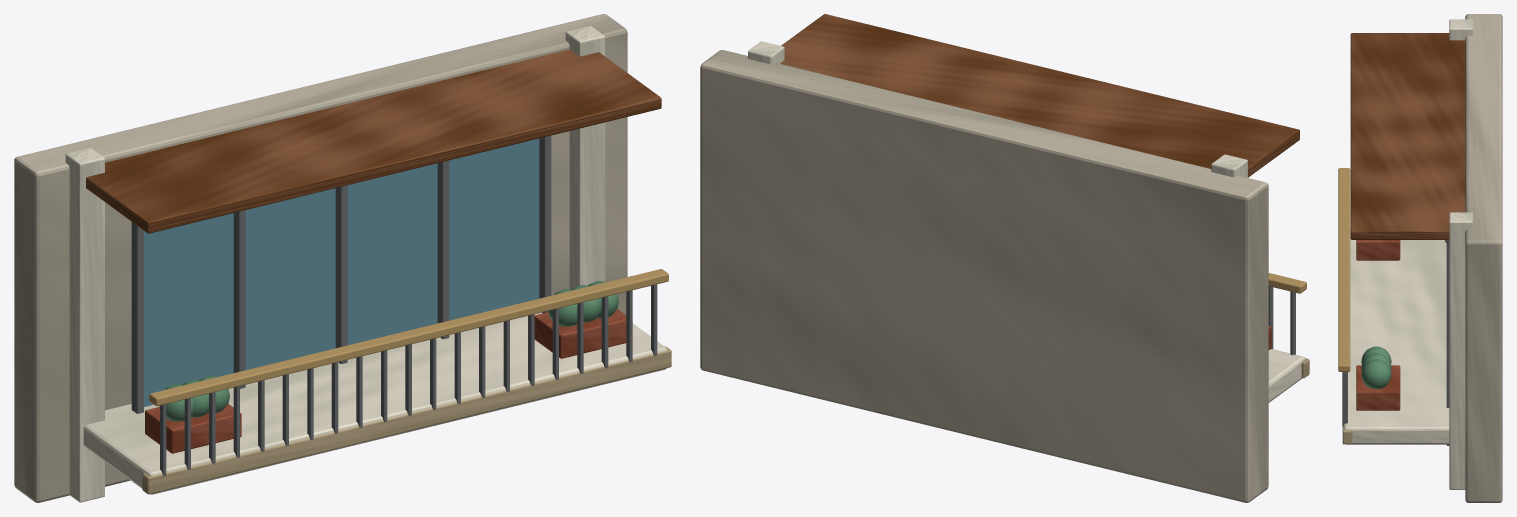
File: R2_Residencial_Varandas.fbx
3 renders of one model, left to right at view 1: azimuth 30°, elevation 25°; view 2: azimuth 150°, elevation 25°; view 3: azimuth 270°, elevation 25°, orthographic. The views are drawn at different scales.
Parts seen in each view (by area): view 1: R2_Residencial_Varandas_porta_de_correr, R2_Residencial_Varandas_fachada_concreto, R2_Residencial_Varandas_forro_amadeirado, R2_Residencial_Varandas_laje_varanda, R2_Residencial_Varandas_estrutura_lateral_-2.7, R2_Residencial_Varandas_acabamento_laje, R2_Residencial_Varandas_corrimao_bronze, R2_Residencial_Varandas_estrutura_lateral_2.7, R2_Residencial_Varandas_jardineira_2.1, R2_Residencial_Varandas_caixilho_vertical_-2.2, R2_Residencial_Varandas_jardineira_-2.1, R2_Residencial_Varandas_caixilho_vertical_1.1 (+3 smaller); view 2: R2_Residencial_Varandas_fachada_concreto, R2_Residencial_Varandas_forro_amadeirado, R2_Residencial_Varandas_laje_varanda, R2_Residencial_Varandas_estrutura_lateral_-2.7, R2_Residencial_Varandas_estrutura_lateral_2.7; view 3: R2_Residencial_Varandas_forro_amadeirado, R2_Residencial_Varandas_fachada_concreto, R2_Residencial_Varandas_laje_varanda, R2_Residencial_Varandas_estrutura_lateral_2.7, R2_Residencial_Varandas_corrimao_bronze, R2_Residencial_Varandas_jardineira_2.1, R2_Residencial_Varandas_jardineira_-2.1, R2_Residencial_Varandas_folhagem_2.1_0.18, R2_Residencial_Varandas_caixilho_vertical_2.2, R2_Residencial_Varandas_estrutura_lateral_-2.7, R2_Residencial_Varandas_gradil_2.65, R2_Residencial_Varandas_folhagem_2.1_0.0 (+1 smaller).
Part boxes in pixels (x1=…): R2_Residencial_Varandas_porta_de_correr: x1=144, y1=138, x2=539, y2=406; R2_Residencial_Varandas_fachada_concreto: x1=14, y1=14, x2=627, y2=502; R2_Residencial_Varandas_forro_amadeirado: x1=86, y1=49, x2=661, y2=233; R2_Residencial_Varandas_laje_varanda: x1=83, y1=312, x2=666, y2=494; R2_Residencial_Varandas_estrutura_lateral_-2.7: x1=65, y1=148, x2=104, y2=502; R2_Residencial_Varandas_acabamento_laje: x1=142, y1=346, x2=671, y2=494; R2_Residencial_Varandas_corrimao_bronze: x1=149, y1=269, x2=668, y2=406; R2_Residencial_Varandas_estrutura_lateral_2.7: x1=565, y1=26, x2=605, y2=289; R2_Residencial_Varandas_jardineira_2.1: x1=534, y1=309, x2=626, y2=358; R2_Residencial_Varandas_caixilho_vertical_-2.2: x1=131, y1=222, x2=143, y2=413; R2_Residencial_Varandas_jardineira_-2.1: x1=145, y1=403, x2=241, y2=453; R2_Residencial_Varandas_caixilho_vertical_1.1: x1=437, y1=160, x2=449, y2=339; R2_Residencial_Varandas_fachada_concreto: x1=700, y1=50, x2=1268, y2=502; R2_Residencial_Varandas_forro_amadeirado: x1=780, y1=14, x2=1299, y2=177; R2_Residencial_Varandas_laje_varanda: x1=1268, y1=349, x2=1305, y2=402; R2_Residencial_Varandas_estrutura_lateral_-2.7: x1=1211, y1=154, x2=1247, y2=177; R2_Residencial_Varandas_estrutura_lateral_2.7: x1=748, y1=41, x2=784, y2=64; R2_Residencial_Varandas_forro_amadeirado: x1=1350, y1=33, x2=1465, y2=239; R2_Residencial_Varandas_fachada_concreto: x1=1465, y1=14, x2=1502, y2=502; R2_Residencial_Varandas_laje_varanda: x1=1343, y1=229, x2=1449, y2=444; R2_Residencial_Varandas_estrutura_lateral_2.7: x1=1449, y1=212, x2=1472, y2=489; R2_Residencial_Varandas_corrimao_bronze: x1=1338, y1=168, x2=1350, y2=371; R2_Residencial_Varandas_jardineira_2.1: x1=1356, y1=365, x2=1400, y2=410; R2_Residencial_Varandas_jardineira_-2.1: x1=1356, y1=240, x2=1400, y2=260; R2_Residencial_Varandas_folhagem_2.1_0.18: x1=1361, y1=359, x2=1391, y2=388; R2_Residencial_Varandas_caixilho_vertical_2.2: x1=1446, y1=242, x2=1449, y2=445; R2_Residencial_Varandas_estrutura_lateral_-2.7: x1=1449, y1=19, x2=1472, y2=40; R2_Residencial_Varandas_gradil_2.65: x1=1342, y1=372, x2=1347, y2=425; R2_Residencial_Varandas_folhagem_2.1_0.0: x1=1361, y1=353, x2=1391, y2=370.
Bounding box in the file's own units: 640 × 351 × 194.
